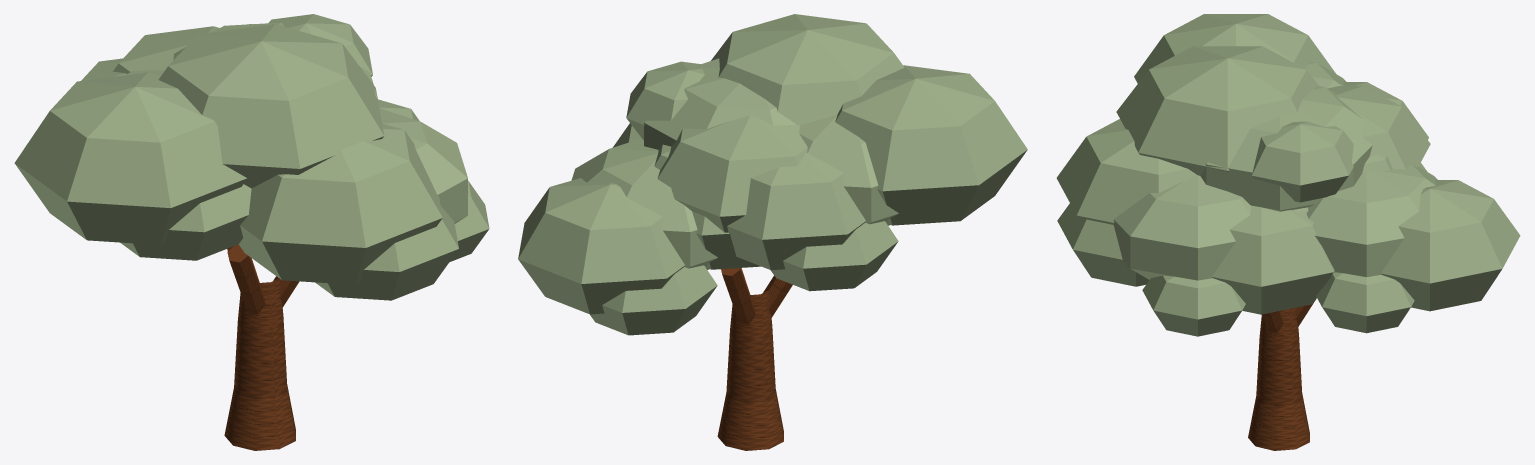
Rendered from greek-island-village-and-harbour-fig-tree-15e48fe1.glb.
3 views of the same model, side by side, from view 1: azimuth 30°, elevation 25°; view 2: azimuth 150°, elevation 25°; view 3: azimuth 270°, elevation 25° (orthographic). The views are drawn at different scales.
Visible parts, largest first — view 1: fig-tree; view 2: fig-tree; view 3: fig-tree.
Part boxes in pixels (left/top/right/bottom): fig-tree: left=14, top=14, right=489, bottom=450; fig-tree: left=518, top=14, right=1027, bottom=450; fig-tree: left=1056, top=14, right=1520, bottom=450.
Bounding box in the file's own units: 3.03 × 2.9 × 3.33.
Materials: 2 (1 with a texture image).
